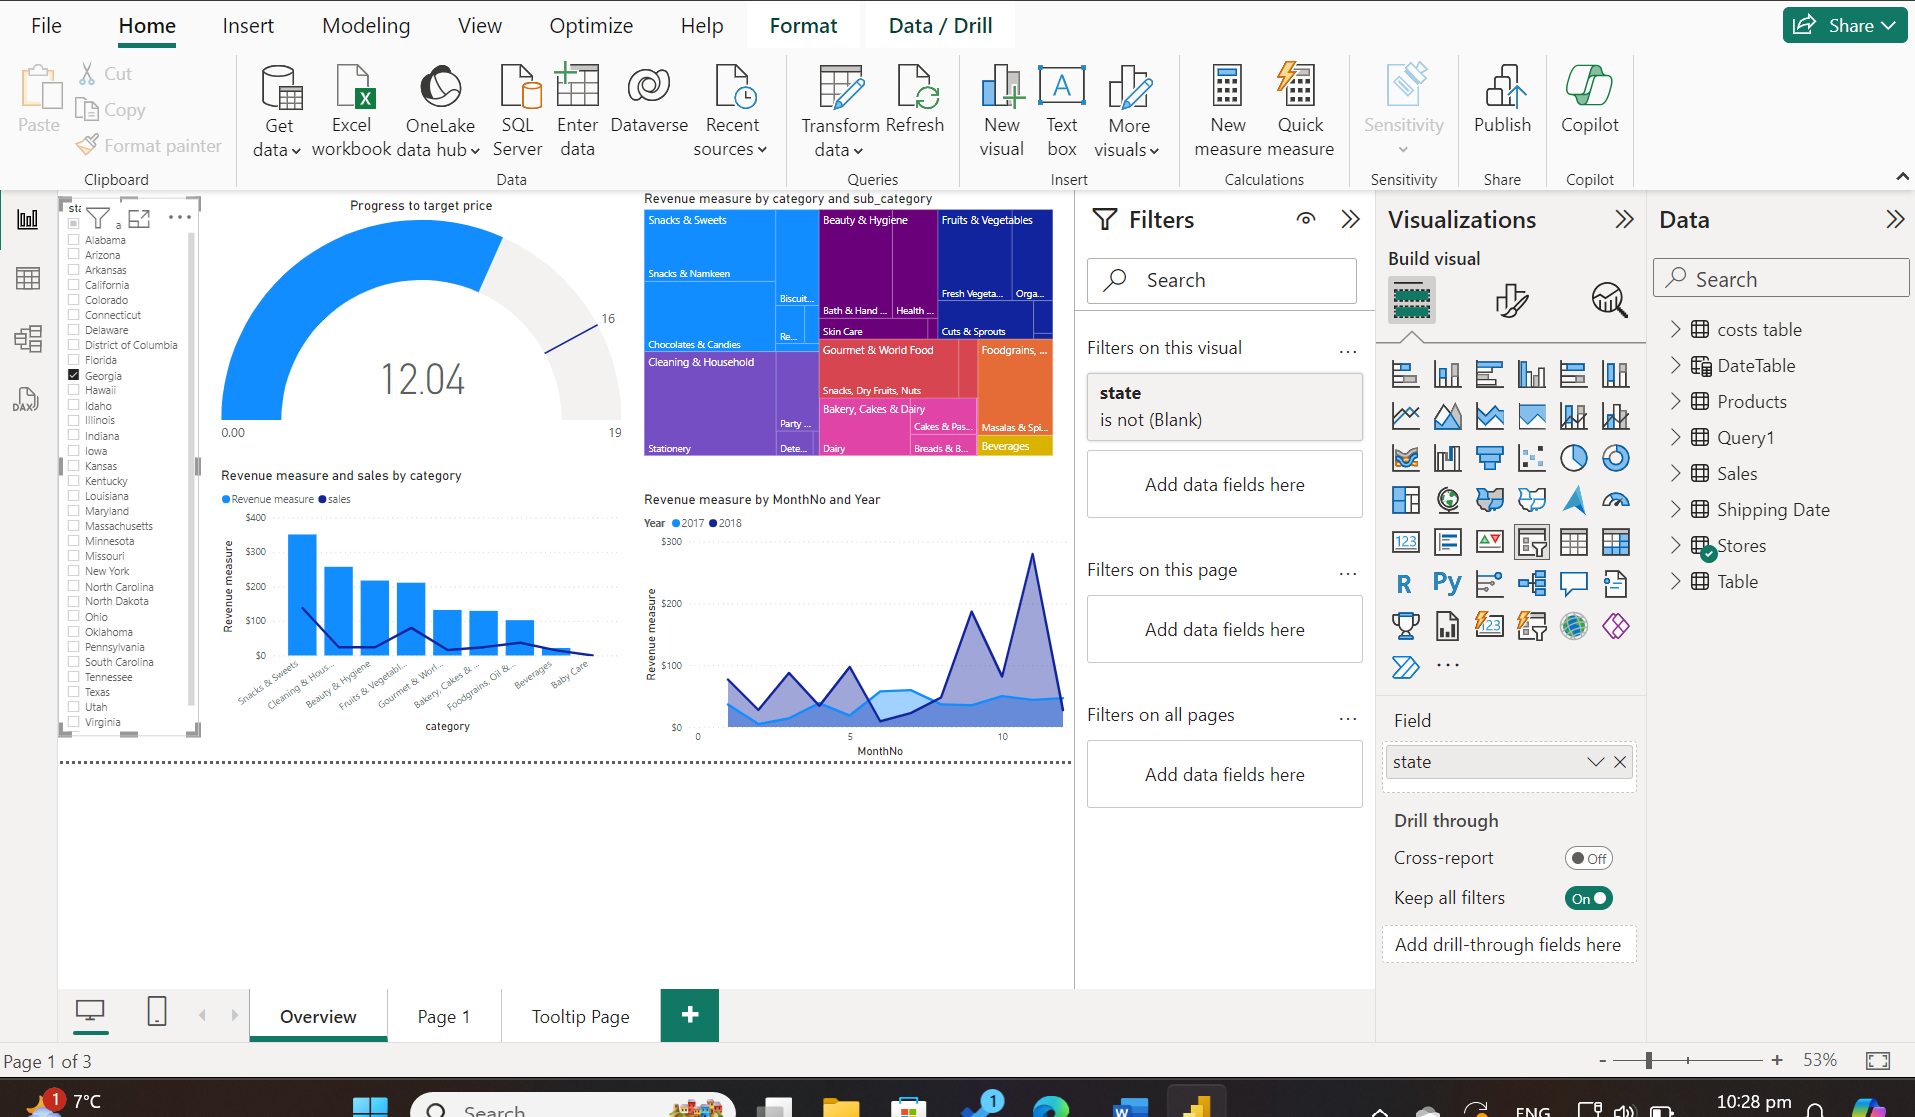

This screenshot's page, from the dashboard's own definition file:
{"tool":"powerbi","page":{"name":"Overview","canvas":[1280,720],"ordinal":1},"visuals":[{"type":"areaChart","fields":{"Category":["DateTable.MonthNo"],"Y":["Sales.Revenue measure"],"Series":["DateTable.Year"]},"box":[732.4,380.3,547.6,339.5],"z":0},{"type":"lineClusteredColumnComboChart","fields":{"Category":["DateTable.Date Hierarchy.Year","DateTable.Date Hierarchy.Quarter","DateTable.Date Hierarchy.MonthName","DateTable.Date Hierarchy.Day"],"Y":["Sales.Revenue measure"],"Y2":["Sum(Sales.sales)"]},"box":[200.4,349.2,514.5,338.5],"z":1000},{"type":"treemap","fields":{"Values":["Sales.Revenue measure"],"Group":["Products.category"],"Details":["Products.sub_category"]},"box":[732.4,0,525.2,339.5],"z":2000},{"type":"gauge","title":"Progress to target price","fields":{"Y":["Sales.Averge"],"MaxValue":["Sales.Max value"],"TargetValue":["Sales.Target value"]},"box":[200.4,9.7,514.5,320],"z":3000},{"type":"slicer","fields":{"Values":["Stores.state"]},"box":[0,53.5,177,654.6],"z":4000},{"type":"actionButton","box":[0,0,100,40],"z":5000}]}

Visuals, with their boxes on the page's 1280x720 design canvas (x1, y1, x2, y2). These are canvas units, not pixel positions in the 1915x1117 screenshot, which may show the page scaled, cropped or inside an application window:
areaChart - DateTable.MonthNo x Sales.Revenue measure: bbox(732, 380, 1280, 720)
lineClusteredColumnComboChart - DateTable.Date Hierarchy.Year x DateTable.Date Hierarchy.Quarter: bbox(200, 349, 715, 688)
treemap - Sales.Revenue measure x Products.category: bbox(732, 0, 1258, 340)
"Progress to target price" gauge: bbox(200, 10, 715, 330)
slicer - Stores.state: bbox(0, 54, 177, 708)
actionButton: bbox(0, 0, 100, 40)
